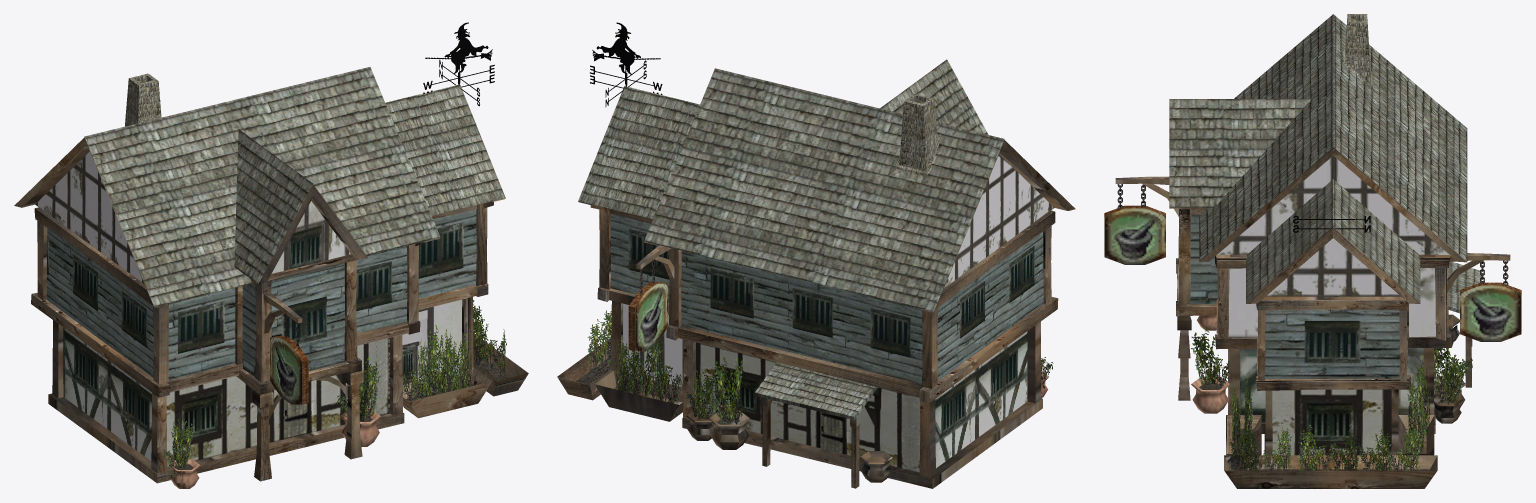
File: building_apothecary.glb
3 renders of one model, left to right at view 1: azimuth 30°, elevation 25°; view 2: azimuth 150°, elevation 25°; view 3: azimuth 270°, elevation 25°, orthographic. The views are drawn at different scales.
Visible parts, largest first — view 1: building_apothecary; view 2: building_apothecary; view 3: building_apothecary.
Boxes of the visible parts, x1,y1,x2,y2 form: building_apothecary: (14,22,528,488); building_apothecary: (557,22,1075,488); building_apothecary: (1104,14,1521,488).
Bounding box in the file's own units: 11.4 × 8.98 × 10.44.
9 materials, 9 textured.
